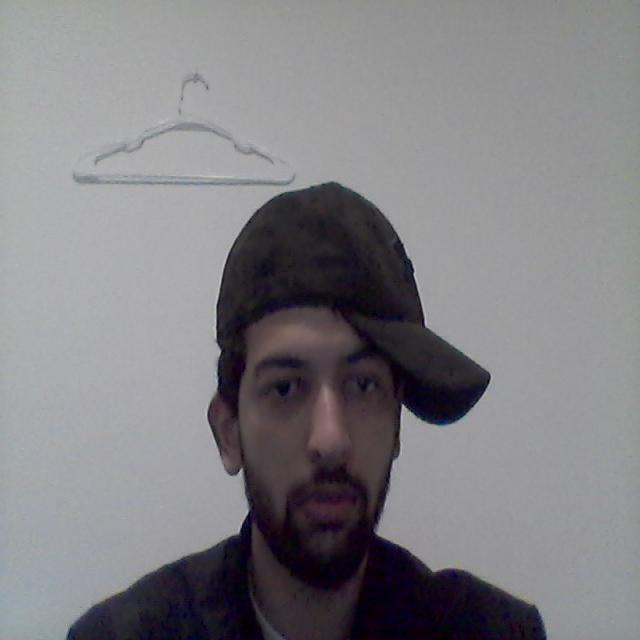cap: (188, 142, 493, 434)
